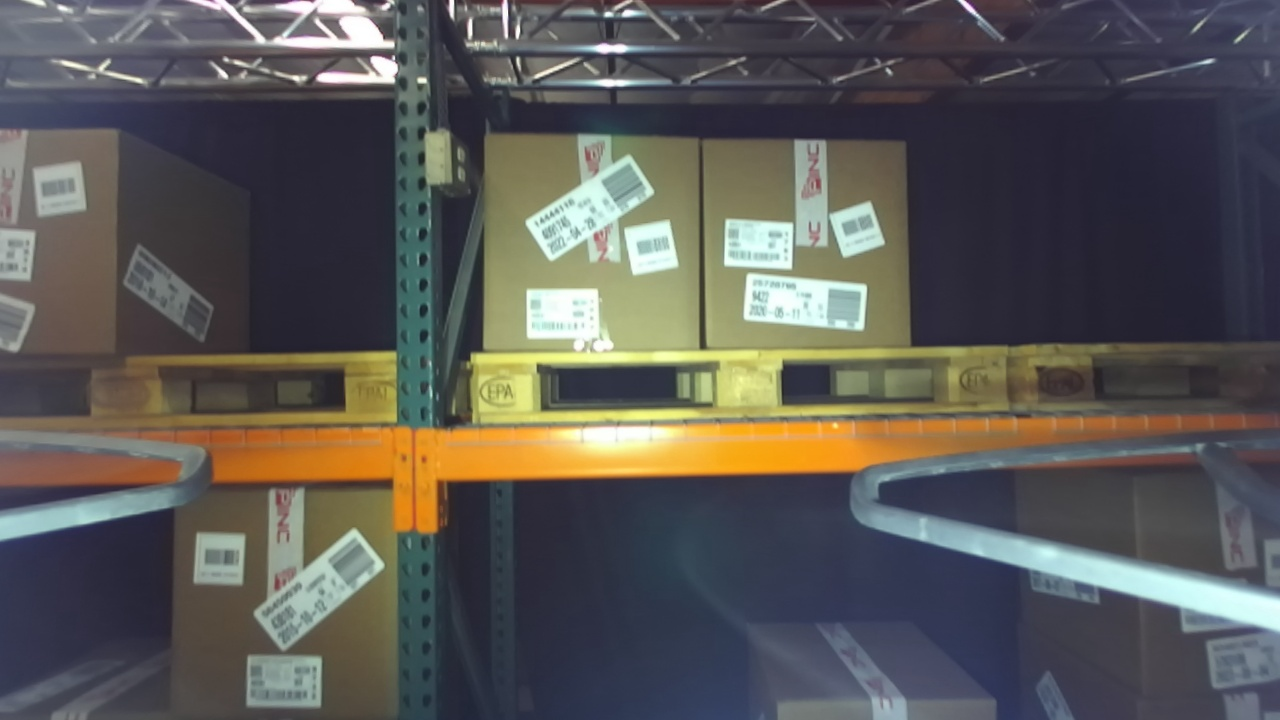box: (151, 454, 425, 720), (456, 109, 719, 364), (685, 118, 935, 376), (1103, 447, 1280, 707)
